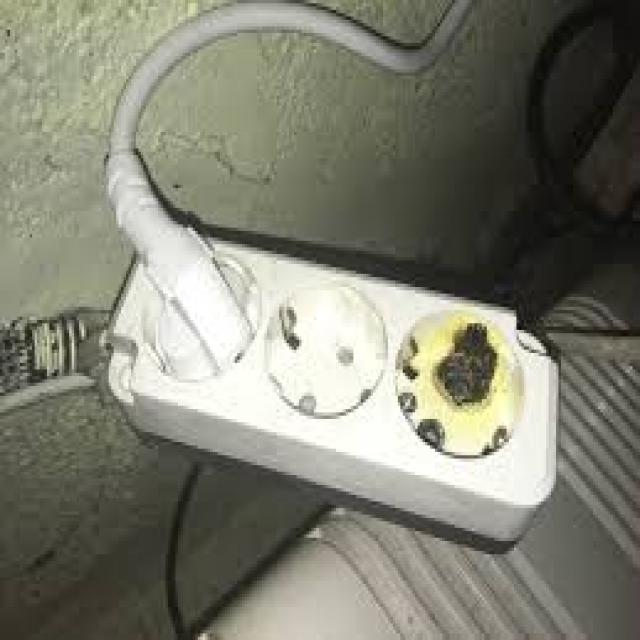typeb: (92, 169, 401, 518)
